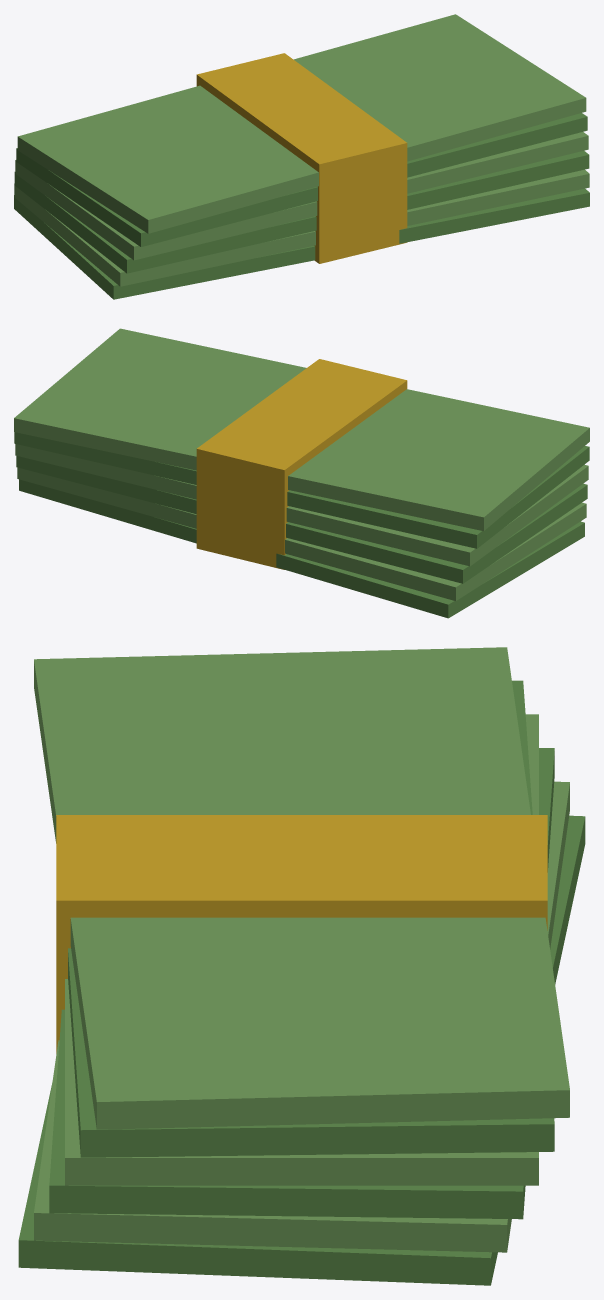
Rendered from cash.glb.
3 views of the same model, one above another, from view 1: azimuth 30°, elevation 25°; view 2: azimuth 150°, elevation 25°; view 3: azimuth 270°, elevation 25° (orthographic). The views are drawn at different scales.
Parts seen in each view (by area): view 1: cash; view 2: cash; view 3: cash.
Part boxes in pixels (x1,y1,x2,y2): cash: [14, 14, 589, 299]; cash: [14, 328, 589, 618]; cash: [18, 647, 585, 1285].
Bounding box in the file's own units: 6.43 × 1.3 × 3.35.
